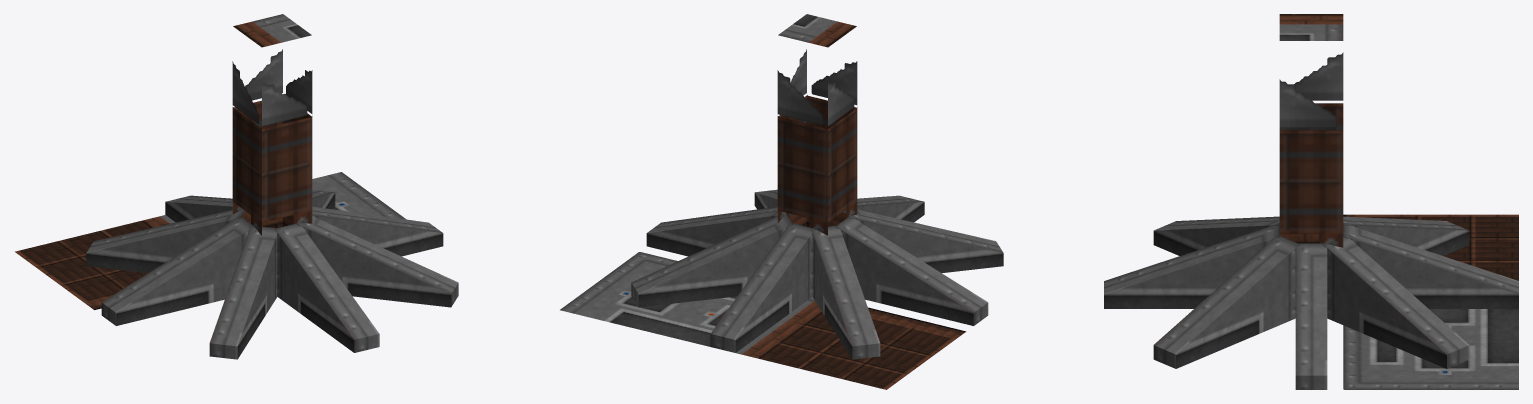
File: squeezer_piston.obj
3 views of the same model, side by side, from view 1: azimuth 30°, elevation 25°; view 2: azimuth 150°, elevation 25°; view 3: azimuth 270°, elevation 25° (orthographic). The views are drawn at different scales.
Parts seen in each view (by area): view 1: piston; view 2: piston; view 3: piston.
Boxes of the visible parts, <box> form: piston: <box>15,14,458,359</box>; piston: <box>560,14,1003,389</box>; piston: <box>1104,14,1518,389</box>.
Size of the model in its own units: 1.63 by 1.19 by 1.63.
